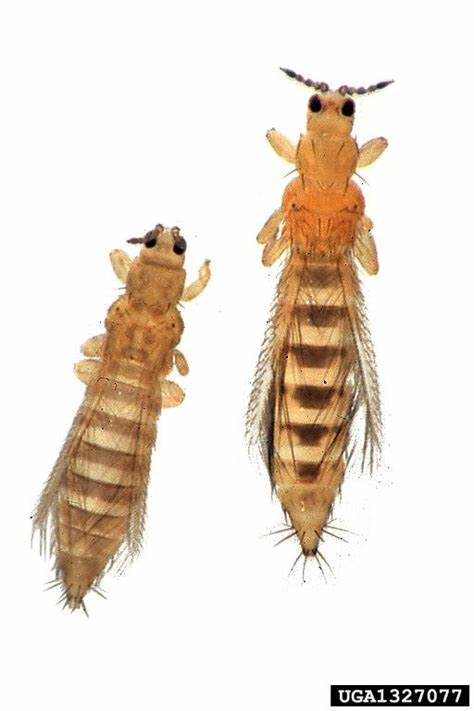Thripidae: (247, 63, 394, 588), (24, 215, 214, 621)
